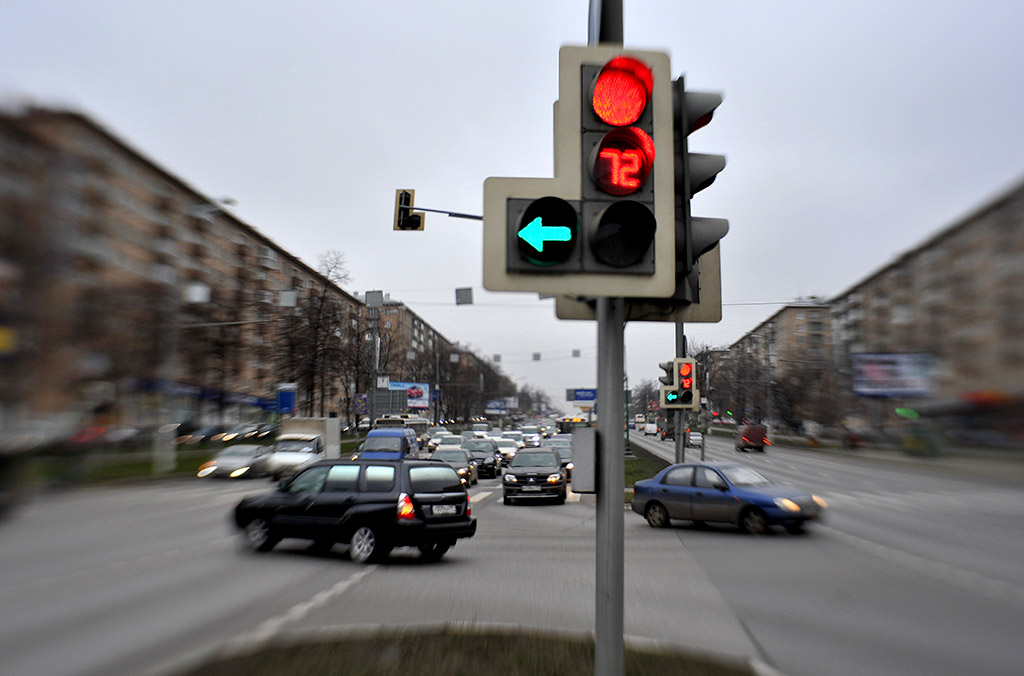tl: (489, 39, 672, 293), (661, 70, 721, 296)
